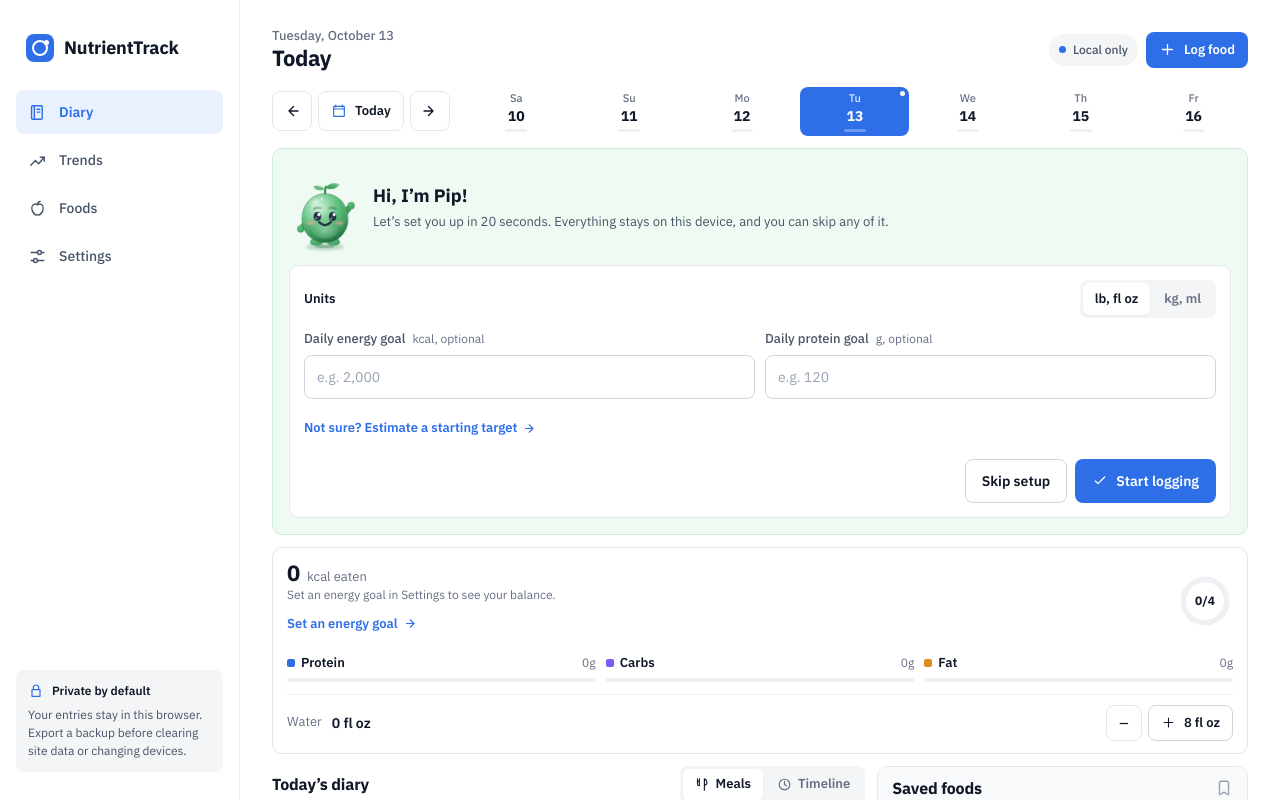
Test case: write failures surface as error toasts › shows an error and keeps the dialog open when saving a manual entry fails
Click the button "Log food" at (1197, 50), box [1146, 32, 1248, 68]
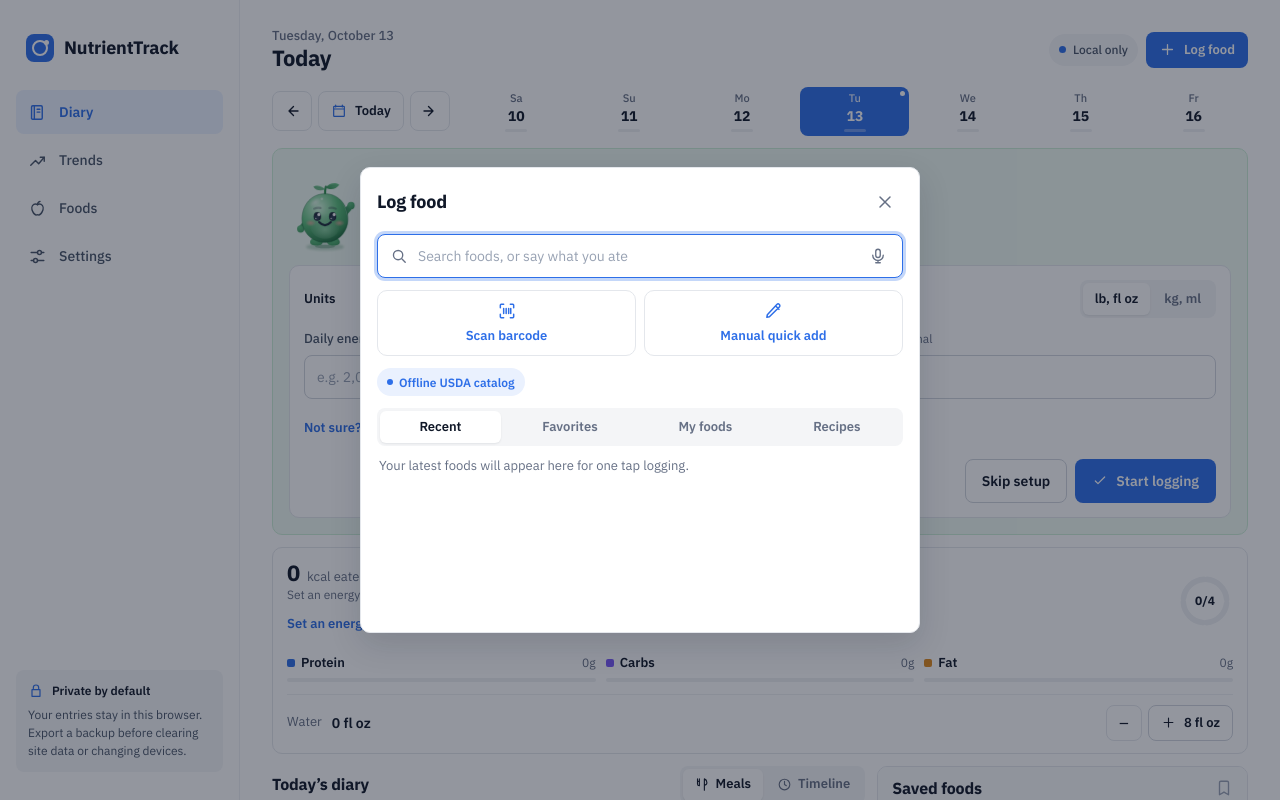
Click the button "Manual quick add" at (774, 323), box [644, 290, 903, 356]
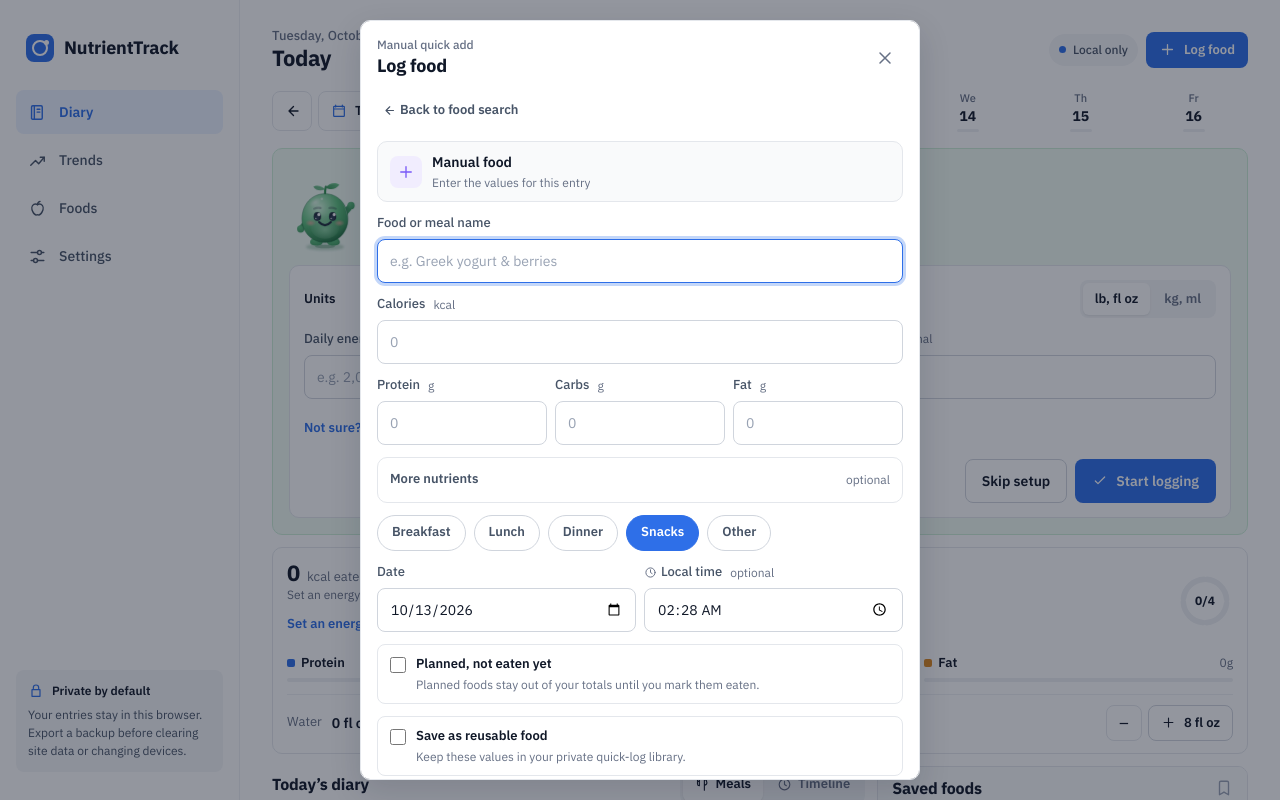
Type "Toast" into the field labelled "Food or meal name" at (640, 261), box [377, 239, 903, 283]
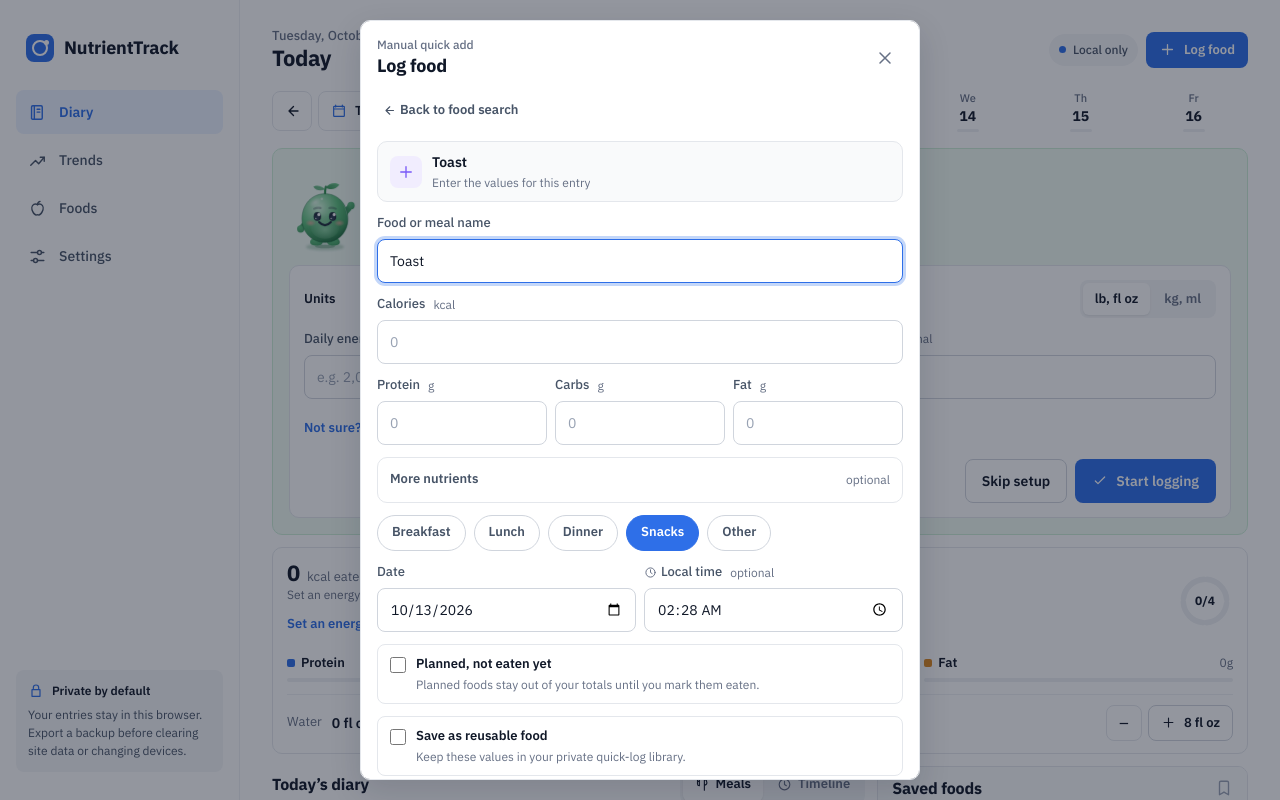
Type "120" into the number field labelled "Calories kcal" at (640, 342), box [377, 320, 903, 364]
(page scrolled)
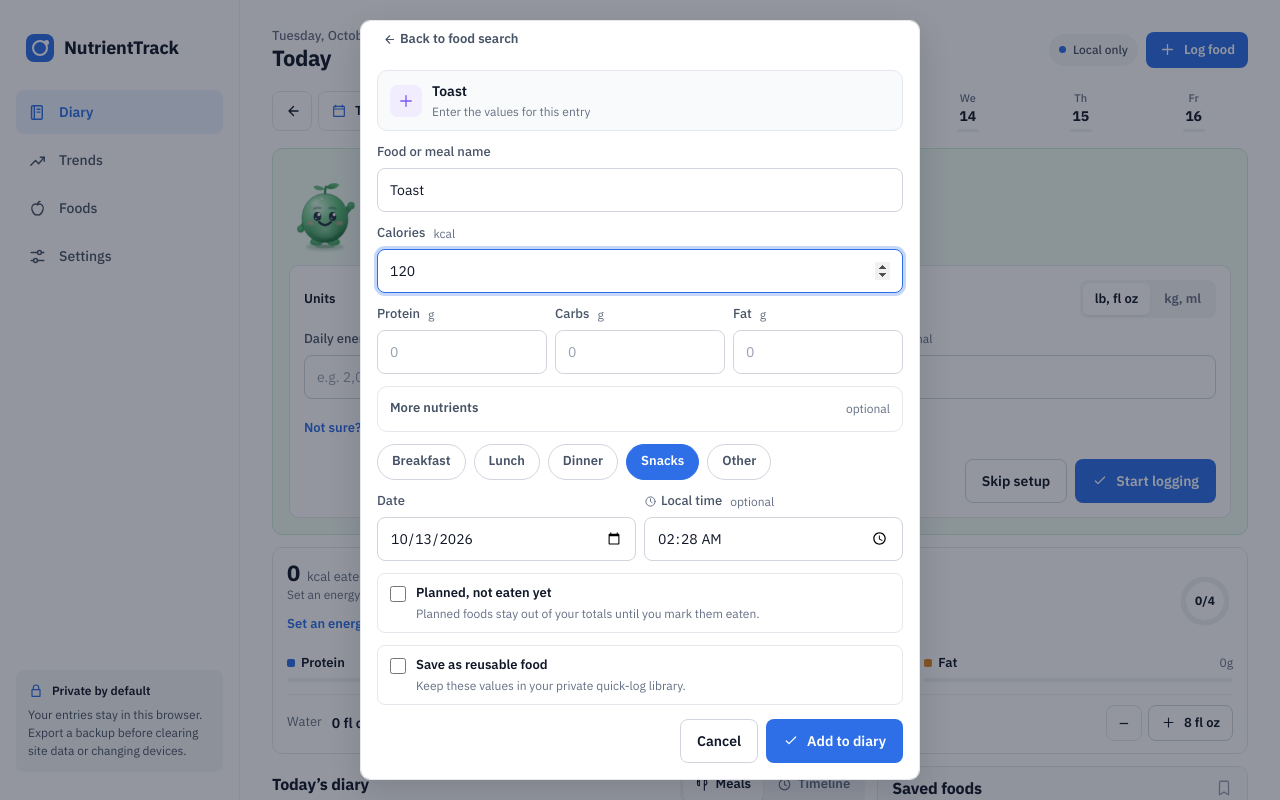
Click the button "Add to diary" at (835, 741), box [766, 719, 903, 763]
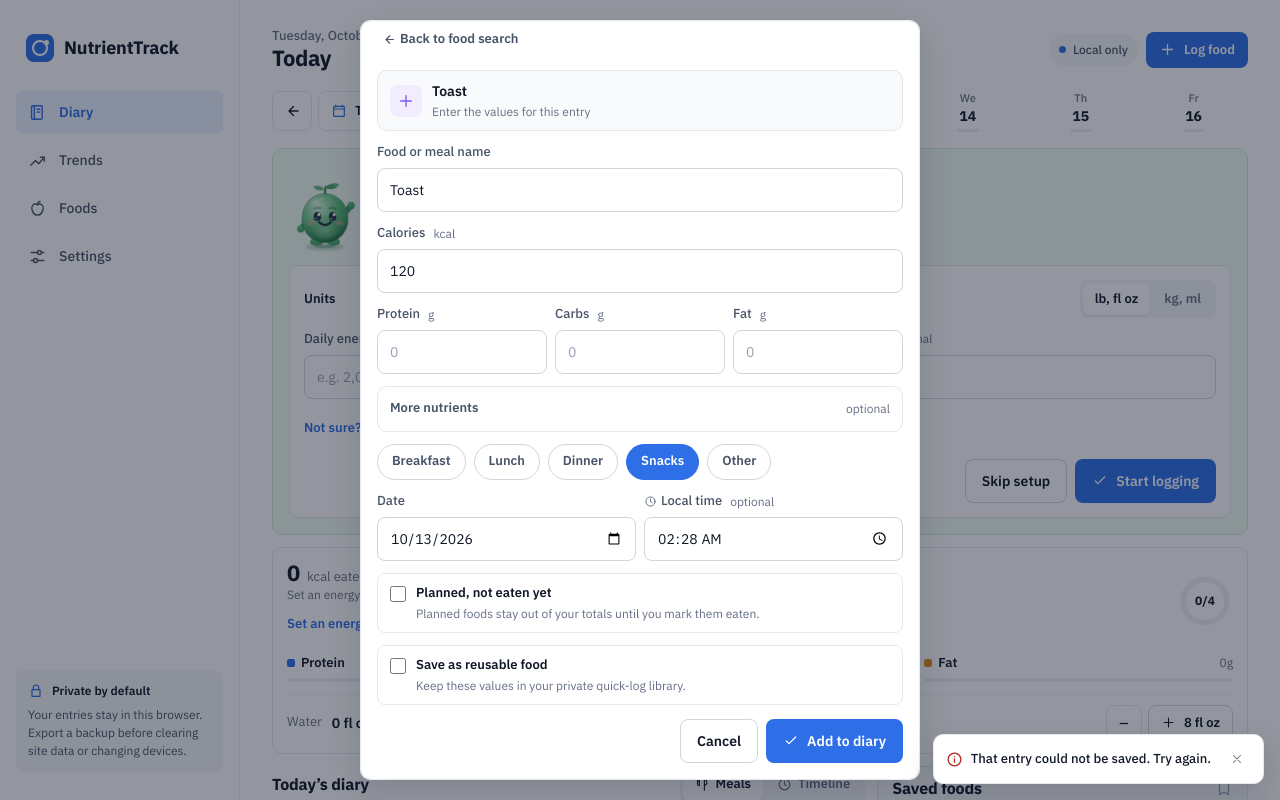
Now the dialog is shown, box [360, 20, 920, 780]
Now the text "That entry could not be saved. Try again." is shown, box [971, 750, 1211, 768]
